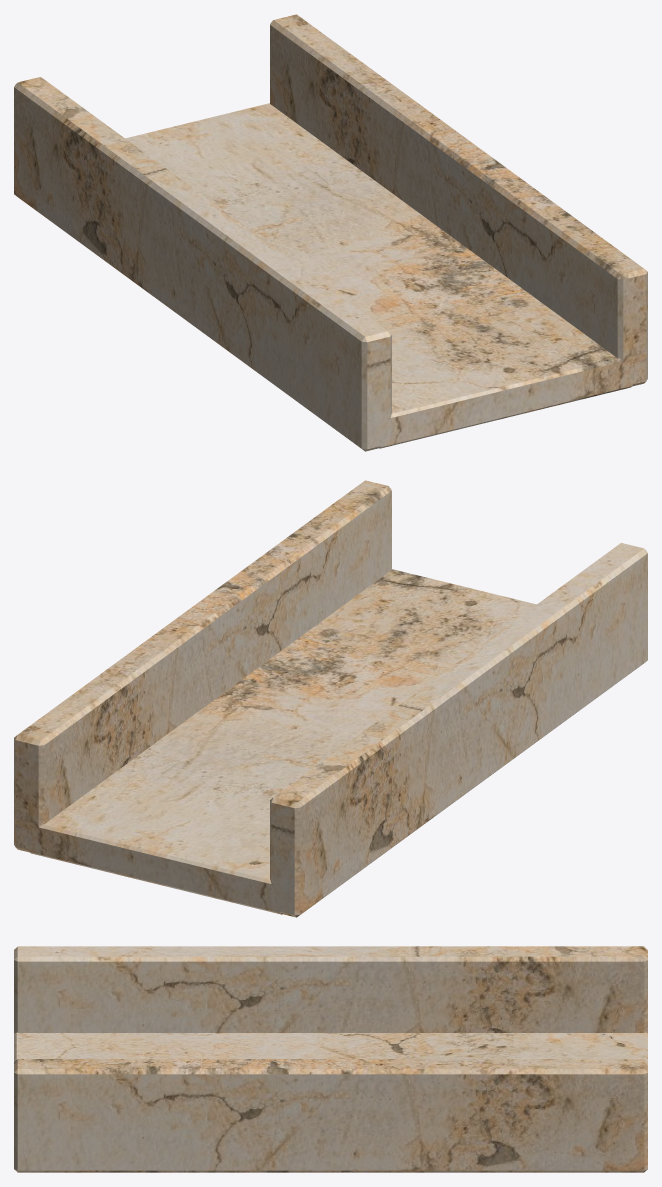
File: open_drain_1m.glb
3 views of the same model, one above another, from view 1: azimuth 30°, elevation 25°; view 2: azimuth 150°, elevation 25°; view 3: azimuth 270°, elevation 25° (orthographic). The views are drawn at different scales.
Parts seen in each view (by area): view 1: open_drain_1m__VVK_concrete_CC0; view 2: open_drain_1m__VVK_concrete_CC0; view 3: open_drain_1m__VVK_concrete_CC0.
Boxes of the visible parts, left/top/right/bottom form: open_drain_1m__VVK_concrete_CC0: left=14, top=14, right=647, bottom=451; open_drain_1m__VVK_concrete_CC0: left=14, top=480, right=647, bottom=917; open_drain_1m__VVK_concrete_CC0: left=14, top=946, right=647, bottom=1172.
Bounding box in the file's own units: 0.47 × 0.18 × 1.
Materials: 1 (1 with a texture image).
